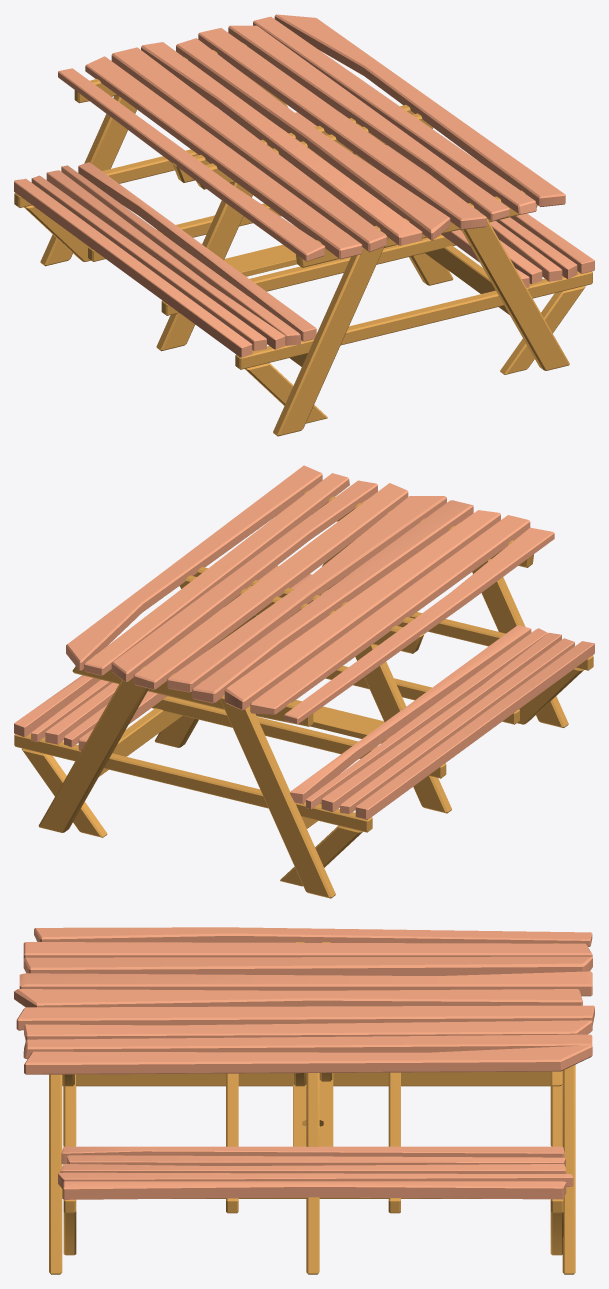
The model's file is Picnik_Table_Bench.fbx.
3 renders of one model, top to bottom at view 1: azimuth 30°, elevation 25°; view 2: azimuth 150°, elevation 25°; view 3: azimuth 270°, elevation 25°, orthographic. The views are drawn at different scales.
Visible parts, largest first — view 1: Table.003, Bench.004, TableStand.003, Stage.001, Achses.001; view 2: Table.003, Bench.004, TableStand.003, Stage.001, Achses.001; view 3: Table.003, Bench.004, TableStand.003, Stage.001, Achses.001.
Boxes of the visible parts, <box> form: Table.003: <box>58,14,565,261</box>; Bench.004: <box>14,112,594,357</box>; TableStand.003: <box>40,43,569,436</box>; Stage.001: <box>14,128,592,369</box>; Achses.001: <box>24,205,585,423</box>; Table.003: <box>66,465,554,724</box>; Bench.004: <box>14,565,594,819</box>; TableStand.003: <box>38,490,568,898</box>; Stage.001: <box>14,590,593,832</box>; Achses.001: <box>22,668,583,886</box>; Table.003: <box>14,927,594,1074</box>; Bench.004: <box>58,1146,573,1199</box>; TableStand.003: <box>49,942,575,1274</box>; Stage.001: <box>63,1072,563,1213</box>; Achses.001: <box>63,1086,563,1255</box>.
Size of the model in its own units: 212 by 108 by 272.
